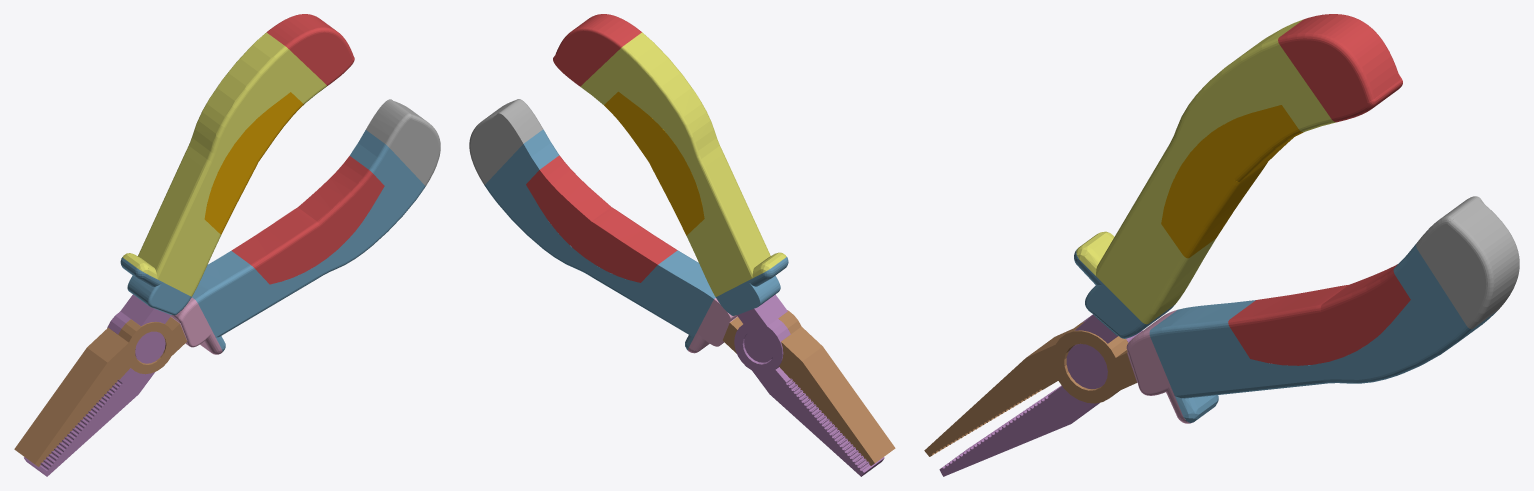
3 renders of one model, left to right at view 1: azimuth 30°, elevation 25°; view 2: azimuth 150°, elevation 25°; view 3: azimuth 330°, elevation 25°, orthographic. The views are drawn at different scales.
Visible parts, largest first — view 1: g5, g10, g9, g6, g3, g4, g8, g0, g1, g7; view 2: g5, g10, g9, g6, g3, g4, g0, g8, g1, g7; view 3: g10, g5, g9, g4, g0, g8, g6, g3, g7, g1.
Boxes of the visible parts, x1,y1,x2,y2 form: g5: (122, 32, 326, 296); g10: (192, 130, 425, 351); g9: (231, 156, 384, 284); g6: (14, 317, 187, 466); g3: (24, 294, 171, 476); g4: (204, 92, 303, 234); g8: (366, 99, 440, 186); g0: (266, 14, 354, 85); g1: (120, 257, 191, 315); g7: (170, 297, 222, 354); g5: (580, 32, 786, 296); g10: (484, 129, 715, 350); g9: (526, 155, 677, 282); g6: (722, 310, 895, 465); g3: (734, 294, 884, 476); g4: (604, 91, 704, 235); g0: (553, 14, 641, 86); g8: (469, 99, 542, 184); g1: (716, 257, 788, 315); g7: (688, 298, 737, 353); g10: (1149, 244, 1496, 423); g5: (1076, 19, 1335, 324); g9: (1228, 264, 1410, 365); g4: (1161, 105, 1303, 258); g0: (1278, 14, 1402, 122); g8: (1416, 196, 1519, 329); g6: (924, 321, 1136, 456); g3: (939, 314, 1142, 476); g7: (1126, 310, 1192, 423); g1: (1074, 249, 1174, 338).
Bounding box in the file's own units: 1.9 × 1.7 × 0.179.
